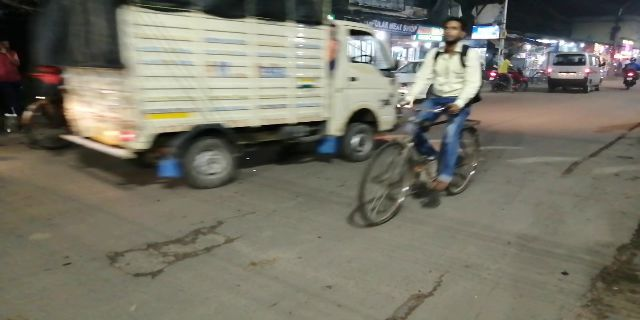Cycle: (359, 20, 481, 223)
Minitruck: (48, 1, 400, 188)
Van: (546, 46, 607, 98)
